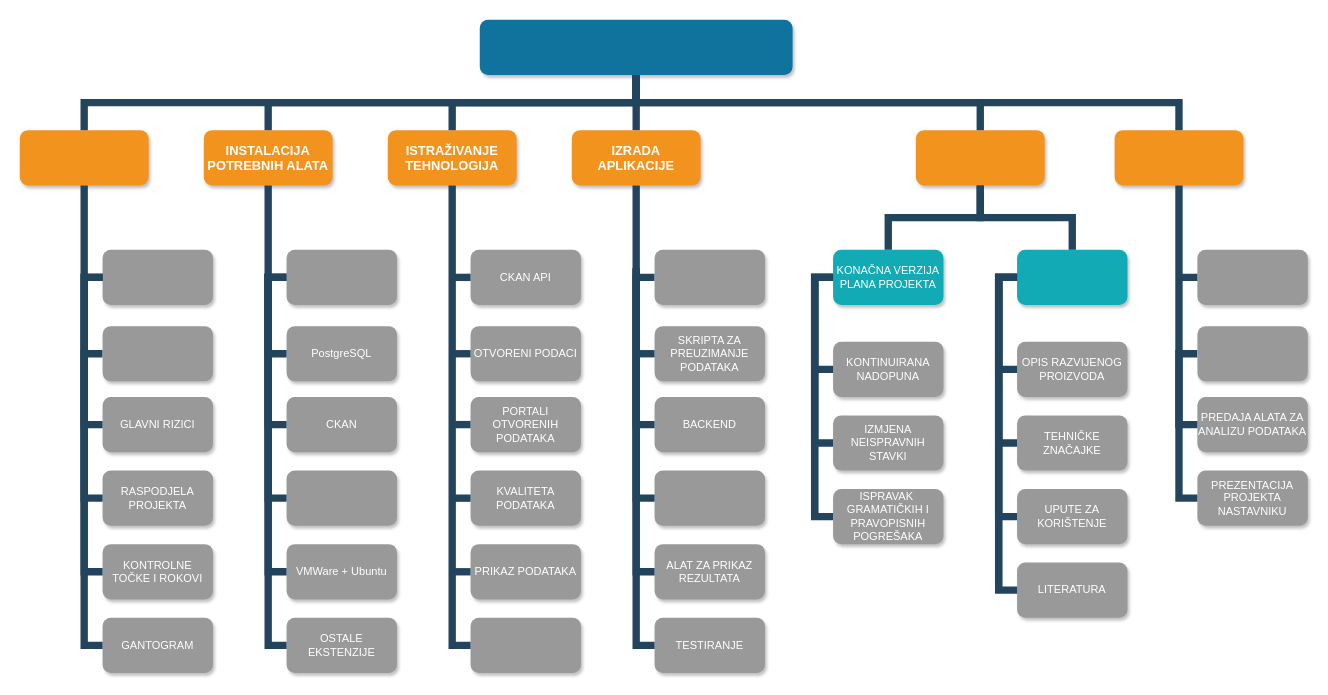
This 1328x695 diagram has some shape labels left out. Each missing label, with the centre of its shape:
ANALIZA PODATAKA: (710,499)
Apache SOLR: (342,499)
CILJEVI I DOSEG: (158,278)
DOKUMENTACIJA: (981,158)
FRONTEND I DIZAJN SUČELJA: (710,278)
ODABIR OKRUŽENJA ZA IZRADU PROJEKTA: (526,646)
POSLJEDNJA PREPRAVLJANJA: (1253,278)
PREDAJA DOKUMENTACIJE: (1253,354)
PRIMOPREDAJA I PREZENTACIJA: (1179,158)
PROJEKT: (637,48)
PRVA VERZIJA PLANA PROJEKTA: (85,158)
Python: (342,278)
SLIČNI PROJEKTI: (158,354)
TEHNIČKA DOKUMENTACIJA: (1073,278)
